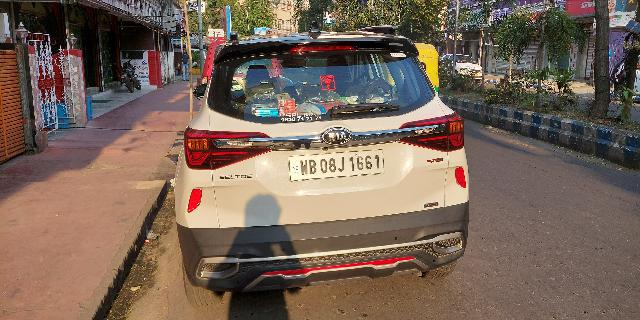Car: (168, 27, 474, 312)
